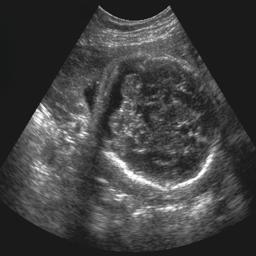abnormal: (88, 53, 222, 191)
